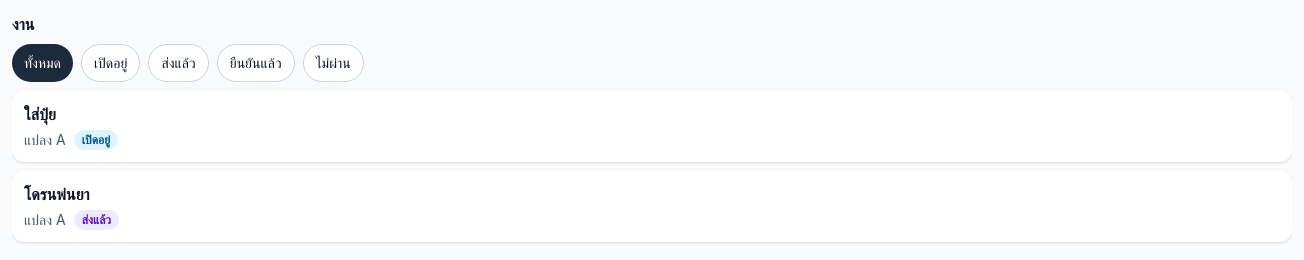
Scenario: WorkOrders › lists work orders with unit name and Thai status badge, and filters with ?status=submitted
Expected: the number of buttons with test id "work-order" is 2, [12, 90, 1292, 162]; [12, 170, 1292, 242]
Expected: the text "แปลง A" is shown 2 times, [24, 130, 66, 150]; [24, 210, 66, 230]
What coordinates should you click on to do the following:
click the button "ส่งแล้ว"
I would click on:
 (179, 63)
Its box is [148, 44, 209, 82].
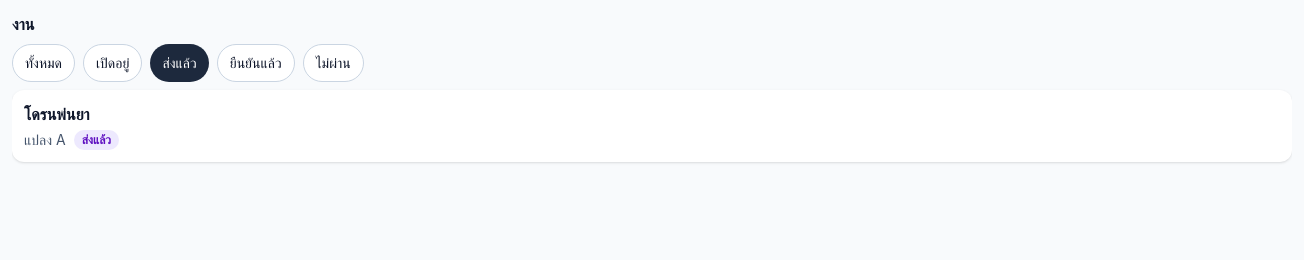
Result: the number of buttons with test id "work-order" is 1 at [12, 90, 1292, 162]
